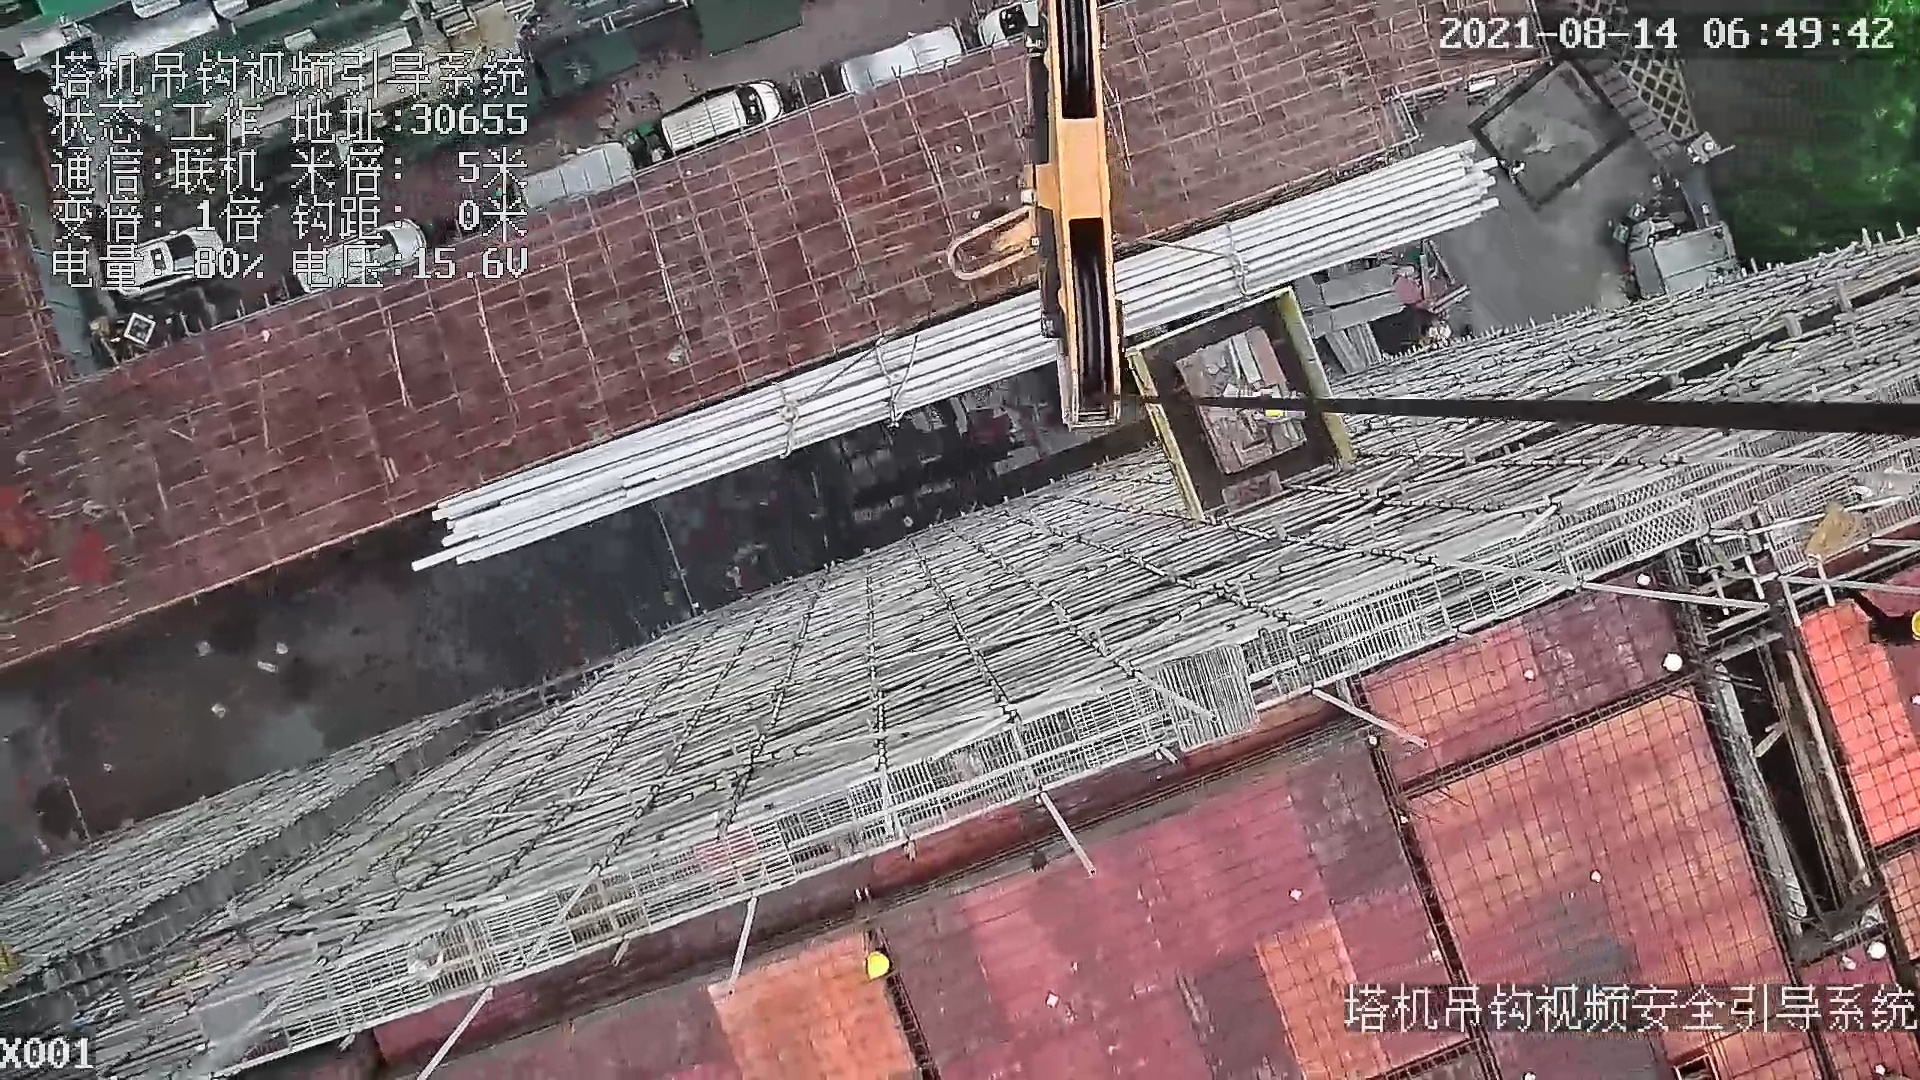helmet: (859, 939, 916, 998)
hook: (940, 1, 1132, 435)
person: (1847, 589, 1920, 655)
